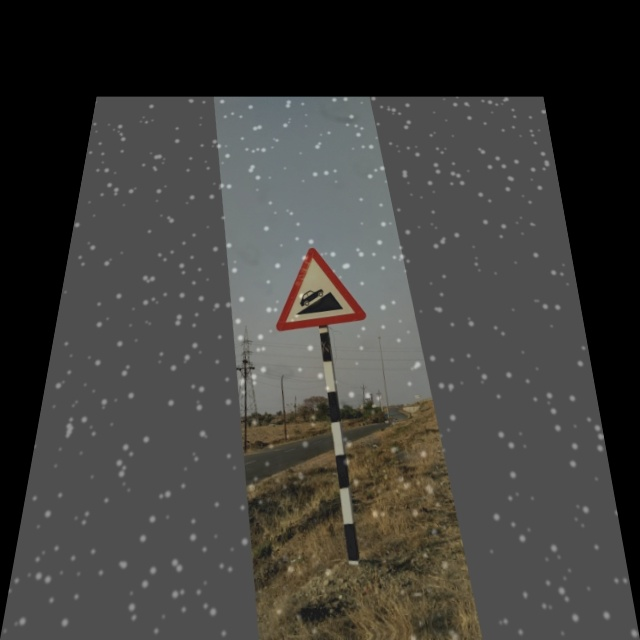Steep_Ascent: (268, 241, 369, 335)
